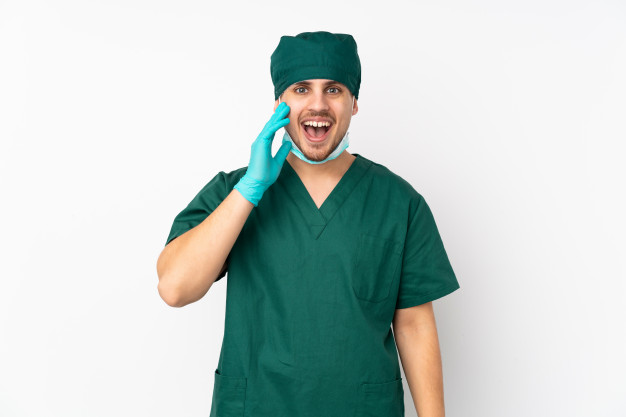mask_weared_incorrect: (271, 71, 358, 167)
